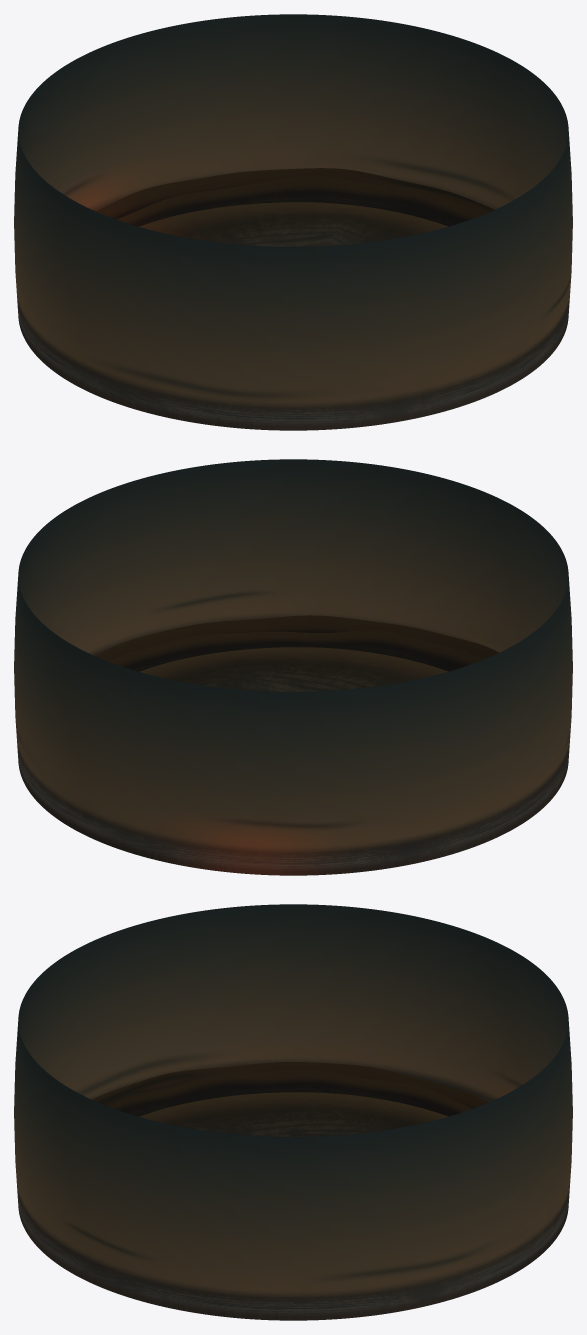
The model's file is relay-valley-panorama.glb.
The picture shows the model from 3 angles, top to bottom: view 1: azimuth 30°, elevation 25°; view 2: azimuth 150°, elevation 25°; view 3: azimuth 270°, elevation 25°; orthographic projection.
Parts seen in each view (by area): view 1: RelayValleyPanorama; view 2: RelayValleyPanorama; view 3: RelayValleyPanorama.
Part boxes in pixels (left/top/right/bottom): RelayValleyPanorama: left=14, top=14, right=572, bottom=430; RelayValleyPanorama: left=14, top=459, right=572, bottom=875; RelayValleyPanorama: left=14, top=904, right=572, bottom=1320.
Bounding box in the file's own units: 386 × 140 × 386.
1 material, 1 textured.
